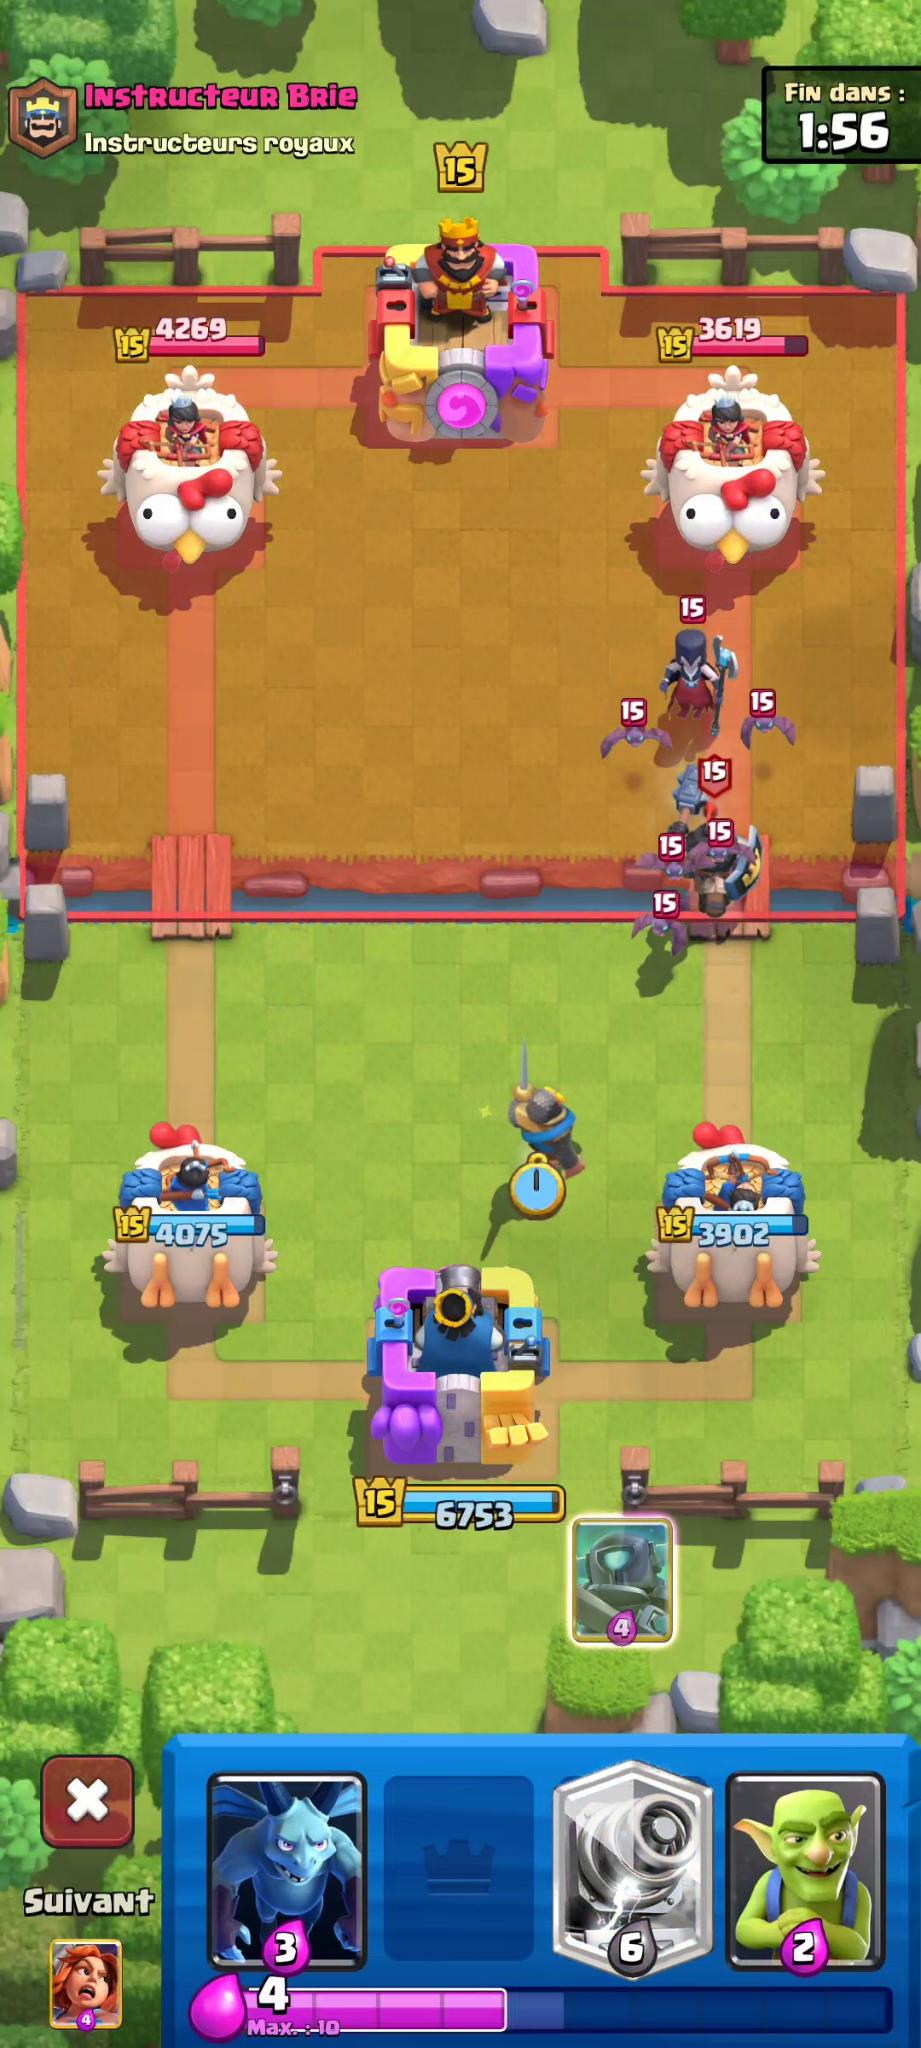bat: (615, 895, 704, 961), (590, 709, 686, 763), (735, 691, 805, 752), (621, 839, 703, 887), (692, 828, 771, 865)
chevalier: (502, 1040, 606, 1204)
